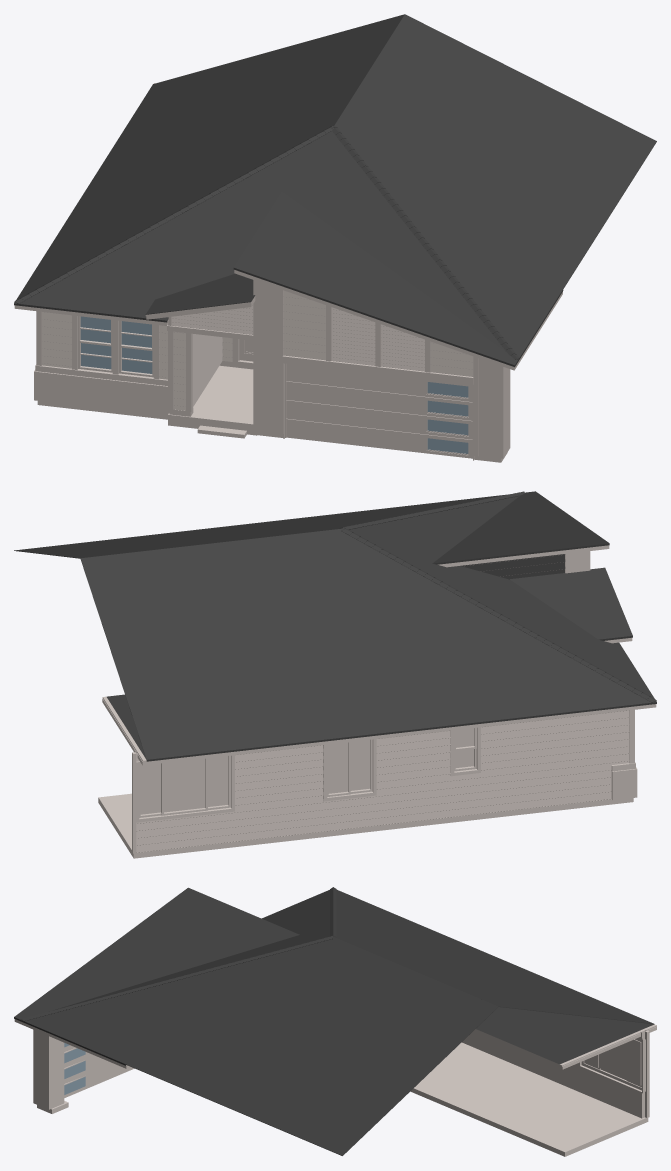
Rendered from KBH_Elevation_1989_1.glb.
3 renders of one model, top to bottom at view 1: azimuth 30°, elevation 25°; view 2: azimuth 150°, elevation 25°; view 3: azimuth 270°, elevation 25°, orthographic. The views are drawn at different scales.
Visible parts, largest first — view 1: Line21344, Line21343, Rectangle8657, Rectangle8651, Rectangle8654, Rectangle8648, Line21345; view 2: Line21344, Line21343; view 3: Line21344, Line21343, Rectangle8657.
Boxes of the visible parts, box(x1,y1,x2,y2) form: Line21344: box(14, 14, 656, 367); Line21343: box(14, 83, 562, 462); Rectangle8657: box(286, 418, 472, 458); Rectangle8651: box(286, 381, 472, 420); Rectangle8654: box(286, 400, 472, 439); Rectangle8648: box(286, 363, 472, 401); Line21345: box(80, 316, 152, 373); Line21344: box(14, 491, 656, 761); Line21343: box(98, 545, 656, 858); Line21344: box(14, 887, 654, 1155); Line21343: box(14, 1019, 656, 1156); Rectangle8657: box(64, 1062, 134, 1097).
Size of the model in its own units: 18.81 by 5.74 by 19.09.
